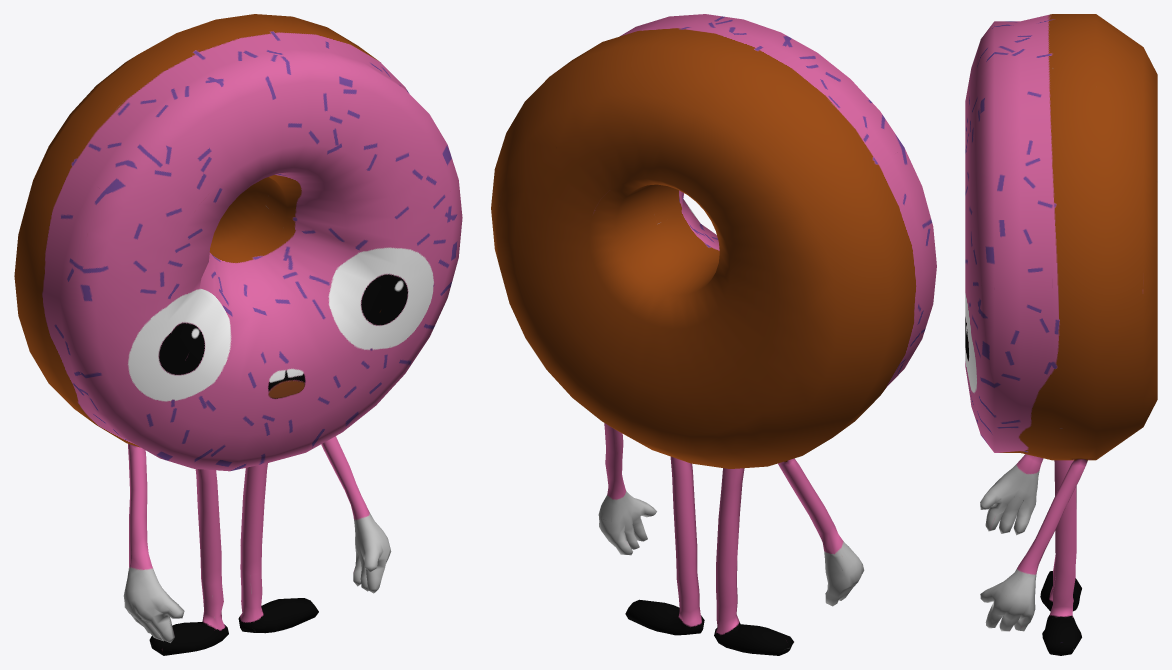
File: Donut pink 13052022.fbx
3 renders of one model, left to right at view 1: azimuth 30°, elevation 25°; view 2: azimuth 150°, elevation 25°; view 3: azimuth 270°, elevation 25°, orthographic. The views are drawn at different scales.
Parts seen in each view (by area): view 1: Donut_ LP; view 2: Donut_ LP; view 3: Donut_ LP.
Part boxes in pixels (<box>): Donut_ LP: <box>14,14,462,655</box>; Donut_ LP: <box>491,14,936,655</box>; Donut_ LP: <box>965,14,1157,655</box>.
Bounding box in the file's own units: 92.31 × 132 × 39.18.
